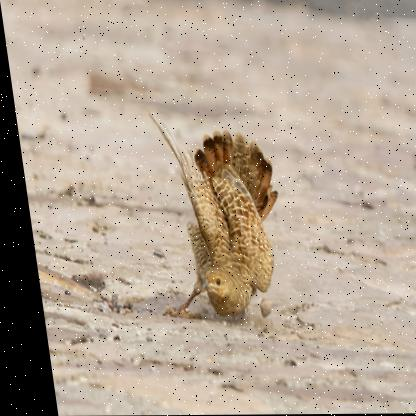Burung: (141, 107, 286, 318)
